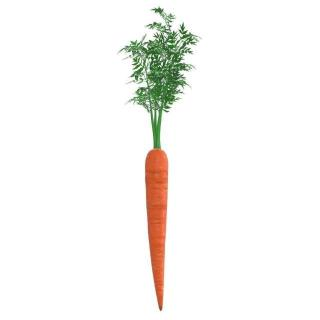carrot: (143, 142, 173, 312)
